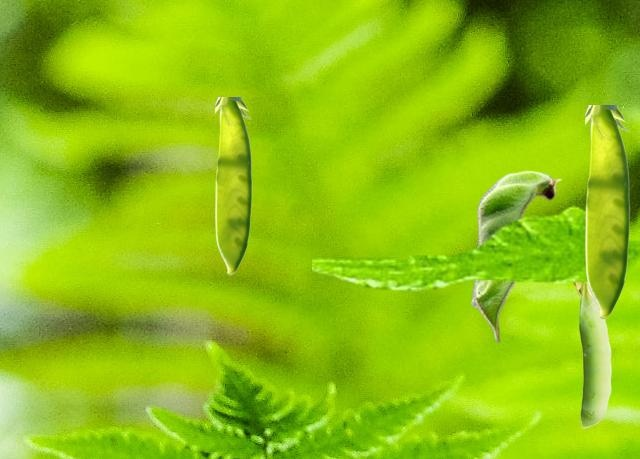pea: (470, 170, 561, 342), (585, 105, 629, 318), (215, 97, 251, 274), (572, 283, 610, 427)
